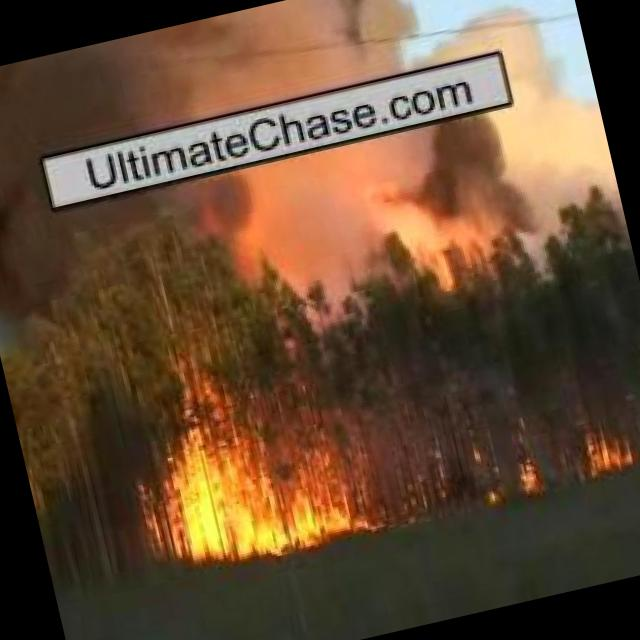Fire: (169, 401, 367, 567), (578, 424, 636, 482), (512, 453, 544, 498)
Smoke: (0, 81, 621, 347), (0, 0, 549, 183)
